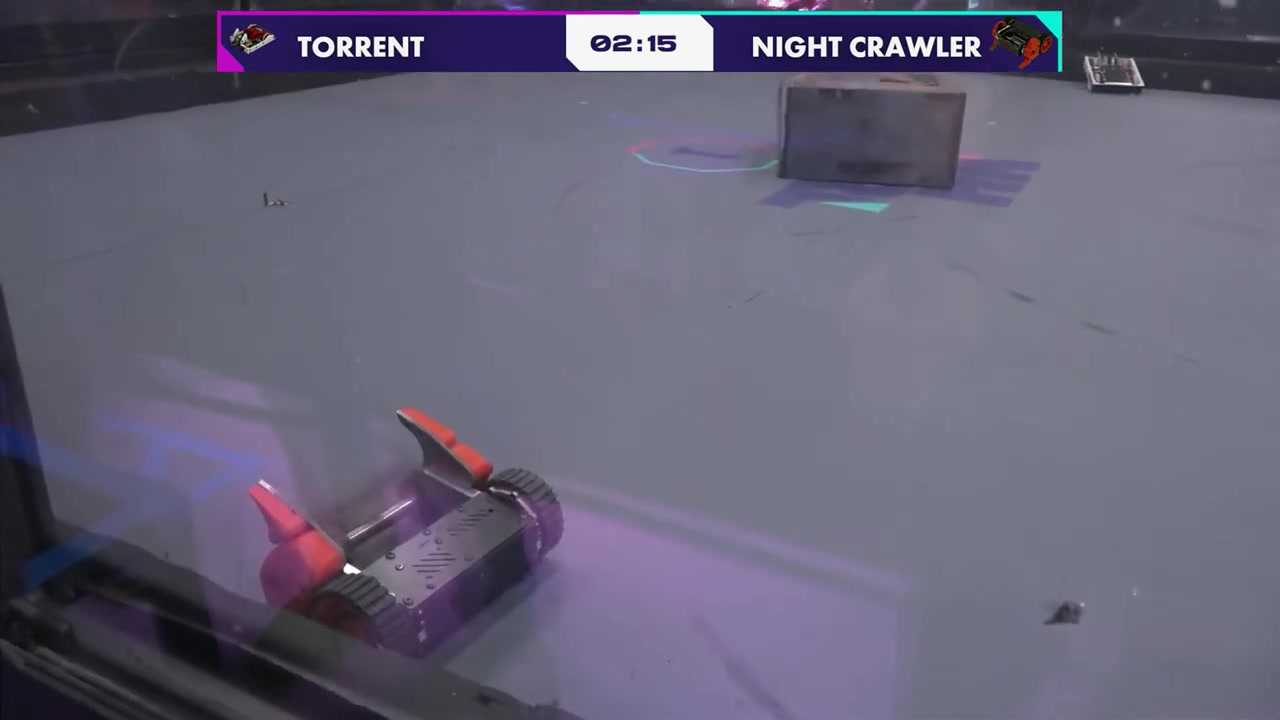combatbot: (240, 403, 571, 662), (1081, 51, 1144, 95)
housebot: (775, 74, 967, 194)
